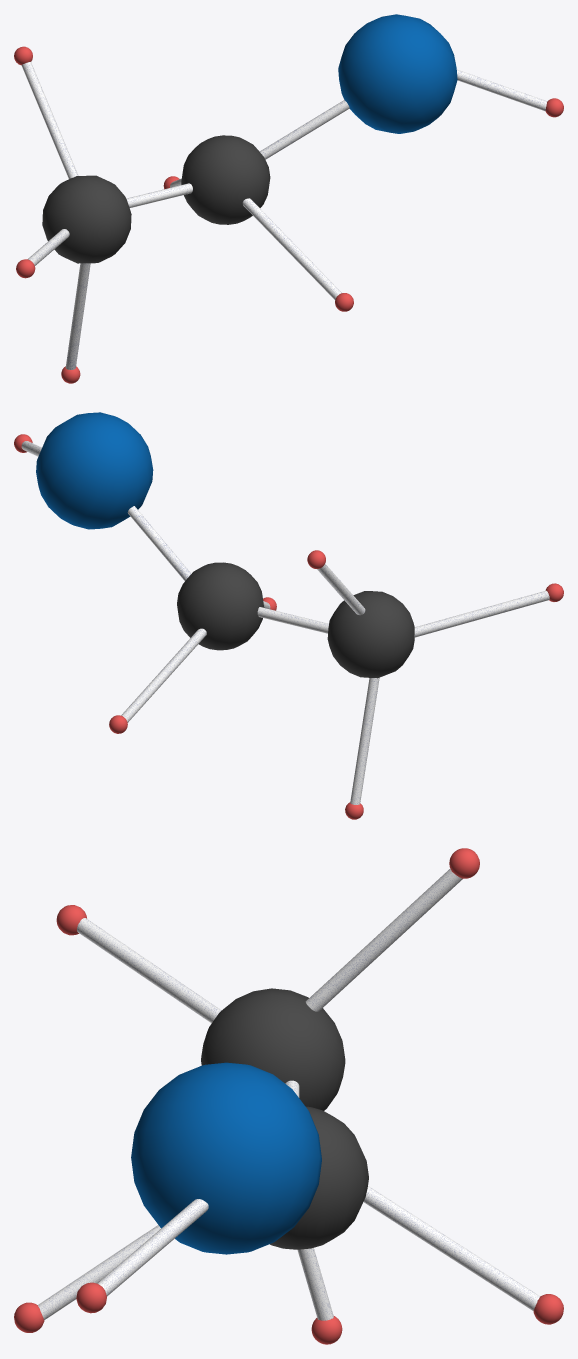
3 renders of one model, top to bottom at view 1: azimuth 30°, elevation 25°; view 2: azimuth 150°, elevation 25°; view 3: azimuth 270°, elevation 25°, orthographic. The views are drawn at different scales.
Visible parts, largest first — view 1: sphere (×3), group_16, group_7, group_5, group_12, group_14, group_8, group_3; view 2: sphere (×3), group_3, group_5, group_10, group_12, group_8, group_7; view 3: sphere (×9), group_10, group_7, group_3, group_14, group_16, group_5.
Boxes of the visible parts, x1,y1,x2,y2 form: sphere (×3): [42, 14, 457, 263]; group_16: [242, 198, 341, 299]; group_7: [21, 62, 78, 178]; group_5: [65, 263, 90, 369]; group_12: [259, 100, 349, 159]; group_14: [456, 69, 547, 111]; group_8: [126, 183, 192, 207]; group_3: [28, 229, 69, 265]; sphere (×3): [36, 412, 414, 678]; group_3: [414, 590, 549, 637]; group_5: [350, 677, 379, 804]; group_10: [121, 628, 206, 722]; group_12: [127, 506, 191, 580]; group_8: [257, 607, 328, 633]; group_7: [317, 564, 365, 615]; sphere (×9): [14, 848, 563, 1344]; group_10: [363, 1186, 539, 1311]; group_7: [305, 868, 462, 1011]; group_3: [77, 918, 221, 1023]; group_14: [97, 1199, 208, 1296]; group_16: [38, 1225, 160, 1319]; group_5: [297, 1248, 333, 1320].
Bounding box in the file's own units: 93.34 × 50.18 × 50.71.
